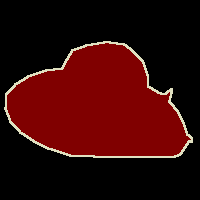hat: (5, 42, 192, 157)
